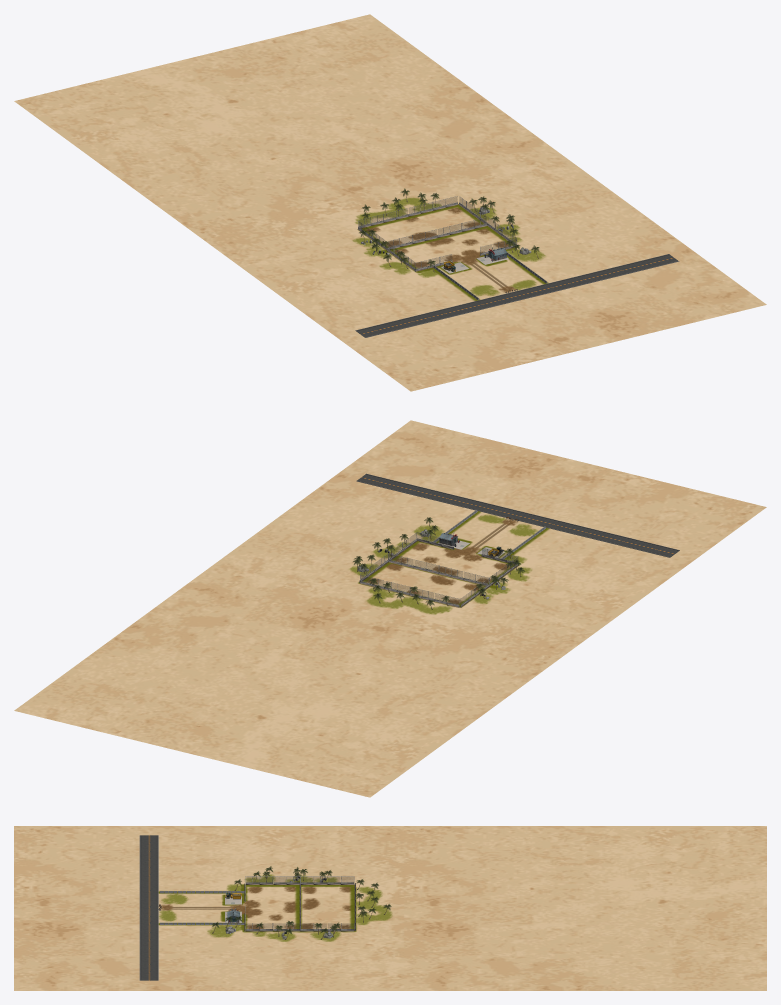
Rendered from map5.glb.
3 views of the same model, one above another, from view 1: azimuth 30°, elevation 25°; view 2: azimuth 150°, elevation 25°; view 3: azimuth 270°, elevation 25° (orthographic). The views are drawn at different scales.
Parts seen in each view (by area): view 1: ground bottom; view 2: ground bottom; view 3: ground bottom, long road.004, long road.006, long road, long road.002, long road.003, long road.005, long road.007, long road.001, long road.008.
Boxes of the visible parts, <box> form: ground bottom: <box>14,14,766,391</box>; ground bottom: <box>14,420,766,797</box>; ground bottom: <box>14,826,766,990</box>; long road.004: <box>139,964,158,980</box>; long road.006: <box>139,851,158,867</box>; long road: <box>139,899,158,916</box>; long road.002: <box>139,932,158,948</box>; long road.003: <box>139,948,158,964</box>; long road.005: <box>139,835,158,851</box>; long road.007: <box>139,867,158,883</box>; long road.001: <box>139,916,158,932</box>; long road.008: <box>139,883,158,899</box>.
Size of what is drawn, in the model's own units: 249 by 8.78 by 480.
Materials: 27 (27 with a texture image).
